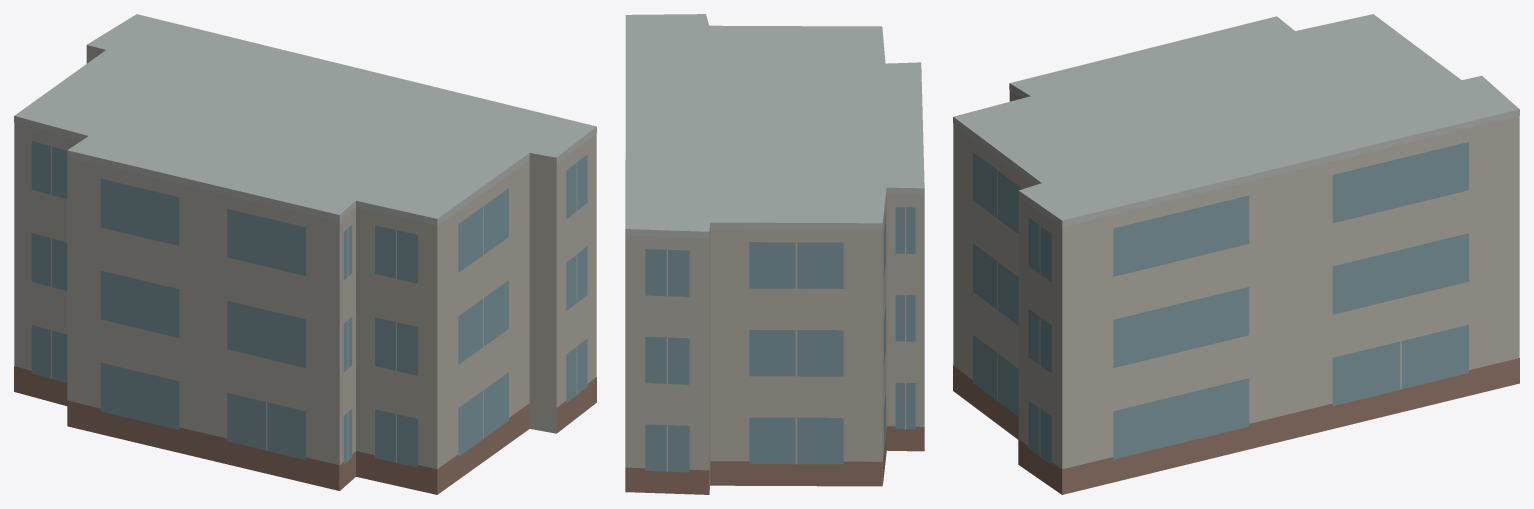
File: survey-upis-32986479.glb
3 views of the same model, side by side, from view 1: azimuth 30°, elevation 25°; view 2: azimuth 150°, elevation 25°; view 3: azimuth 270°, elevation 25° (orthographic). The views are drawn at different scales.
Parts seen in each view (by area): view 1: survey-upis-32986479.tmp; view 2: survey-upis-32986479.tmp; view 3: survey-upis-32986479.tmp.
Part boxes in pixels (left/top/right/bottom): survey-upis-32986479.tmp: left=14, top=14, right=596, bottom=494; survey-upis-32986479.tmp: left=625, top=14, right=924, bottom=494; survey-upis-32986479.tmp: left=953, top=14, right=1519, bottom=494.
Size of the model in its own units: 16.01 by 9.9 by 18.55.
